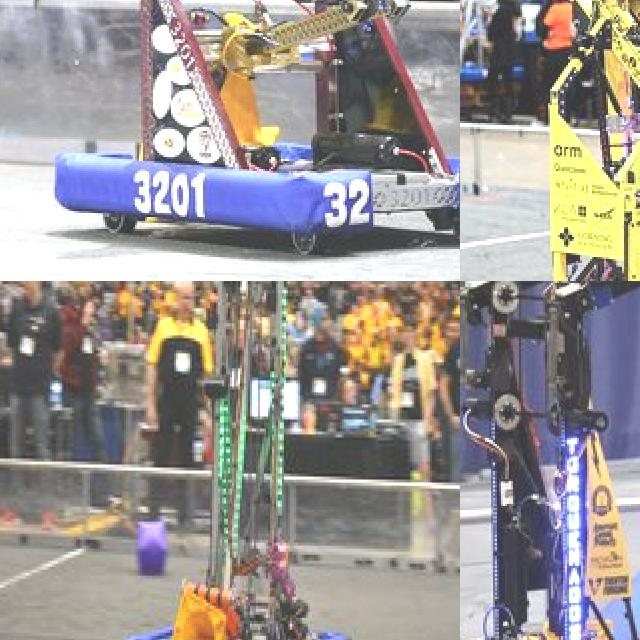FRC-Robots: (48, 0, 460, 250), (111, 281, 389, 640), (460, 281, 640, 640), (474, 0, 640, 281)
